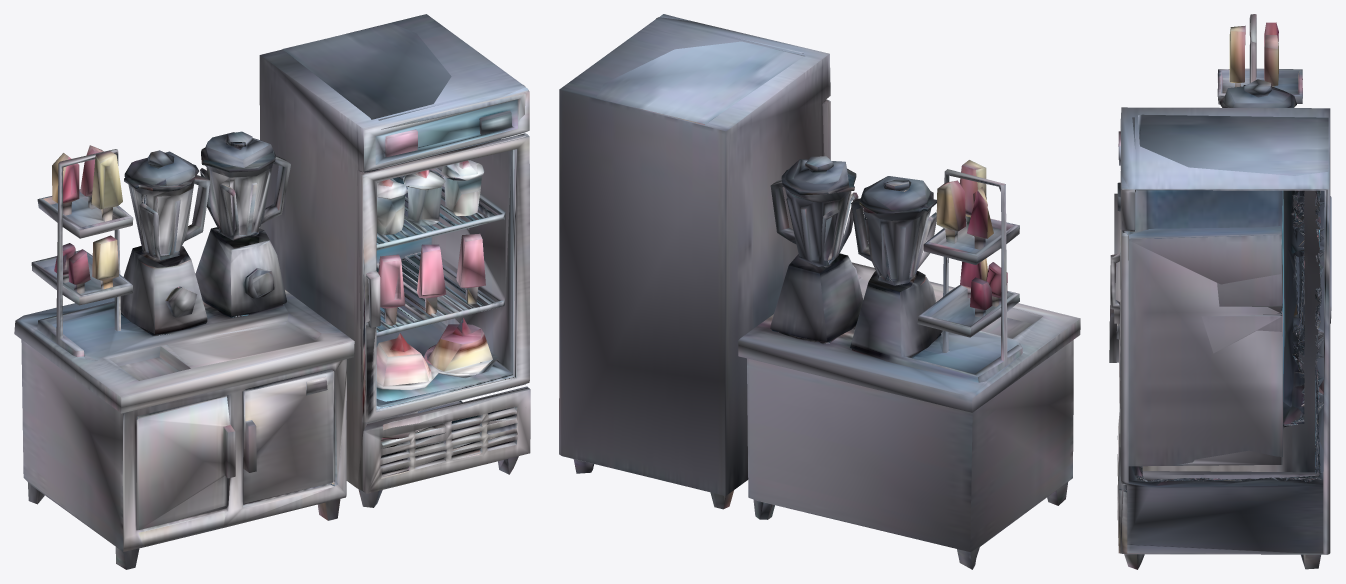
File: tianpinji-3.glb
3 views of the same model, side by side, from view 1: azimuth 30°, elevation 25°; view 2: azimuth 150°, elevation 25°; view 3: azimuth 270°, elevation 25° (orthographic).
Visible parts, largest first — view 1: node_0; view 2: node_0; view 3: node_0.
Part boxes in pixels (box(x1,y1,x2,y2)): node_0: box(14, 14, 530, 569); node_0: box(559, 14, 1080, 569); node_0: box(1109, 14, 1331, 569).
Bounding box in the file's own units: 0.8503 × 0.7584 × 0.395.
1 material, 1 textured.
